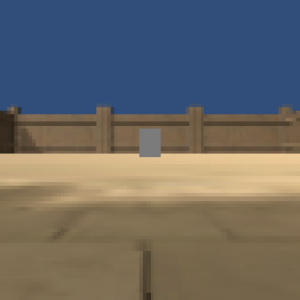wall: (139, 125, 161, 158)
